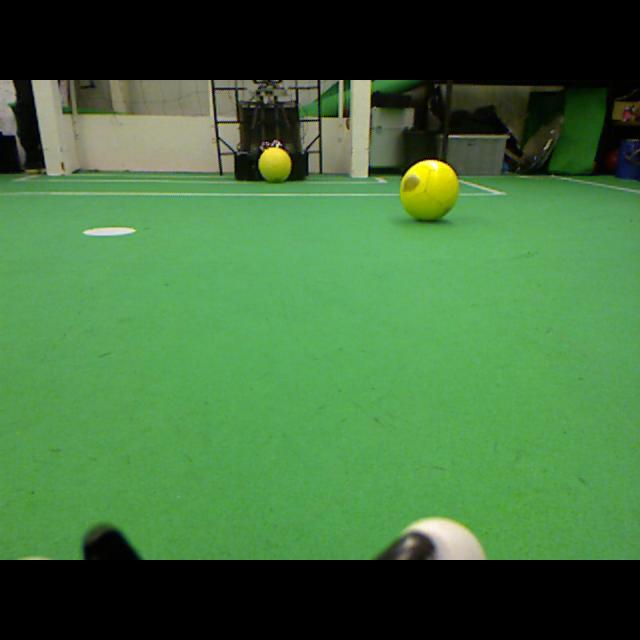ball: (399, 160, 460, 221), (258, 147, 291, 182)
goal: (31, 80, 65, 175), (351, 80, 372, 177)
robot: (234, 80, 309, 182)
